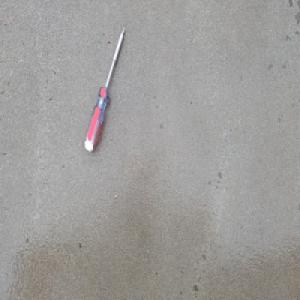Screwdriver: (83, 24, 125, 154)
